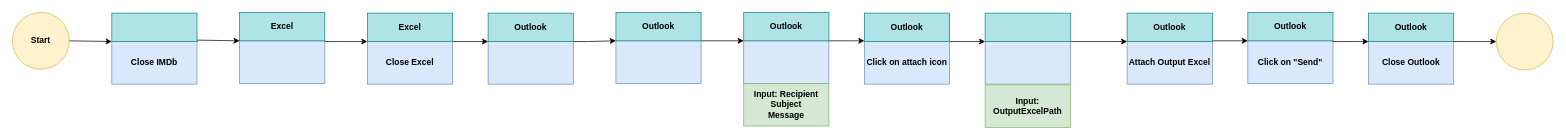
Image size: 1566x140. Some labels were removed from this diagram. Here are the shapes that lost their labels. From the top down, the box of each, then its label:
(111, 12, 197, 42): IMDb
(984, 12, 1070, 42): System
(1496, 12, 1553, 70): End
(239, 40, 325, 83): Save Output Excel
(487, 41, 573, 84): Open Outlook
(615, 40, 701, 83): Click on "New mail" button
(743, 40, 829, 83): Complete the recipient, subject and message
(984, 41, 1070, 84): Navigate to the Output Excel path
